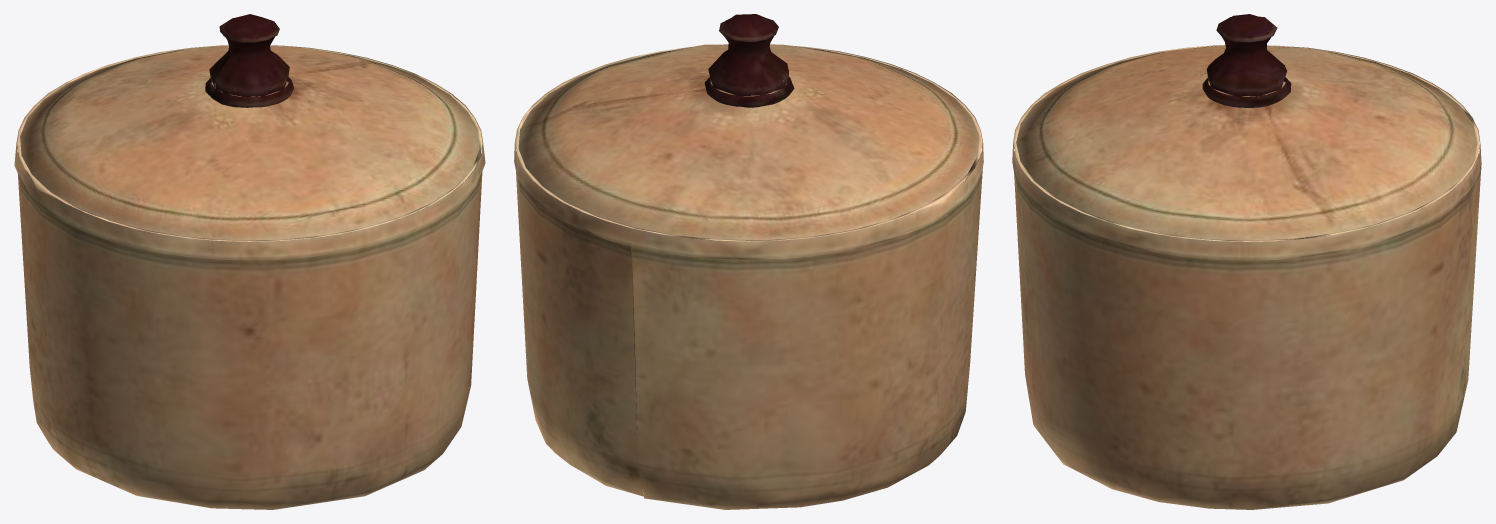
The model's file is brass_pot.glb.
The picture shows the model from 3 angles, left to right: view 1: azimuth 30°, elevation 25°; view 2: azimuth 150°, elevation 25°; view 3: azimuth 270°, elevation 25°; orthographic projection.
Visible parts, largest first — view 1: brass_pot_01; view 2: brass_pot_01; view 3: brass_pot_01.
Boxes of the visible parts, x1=… form: brass_pot_01: x1=14, y1=14, x2=485, y2=509; brass_pot_01: x1=514, y1=14, x2=983, y2=509; brass_pot_01: x1=1012, y1=14, x2=1481, y2=509.
Bounding box in the file's own units: 0.3005 × 0.2907 × 0.3002.
Materials: 1 (1 with a texture image).
